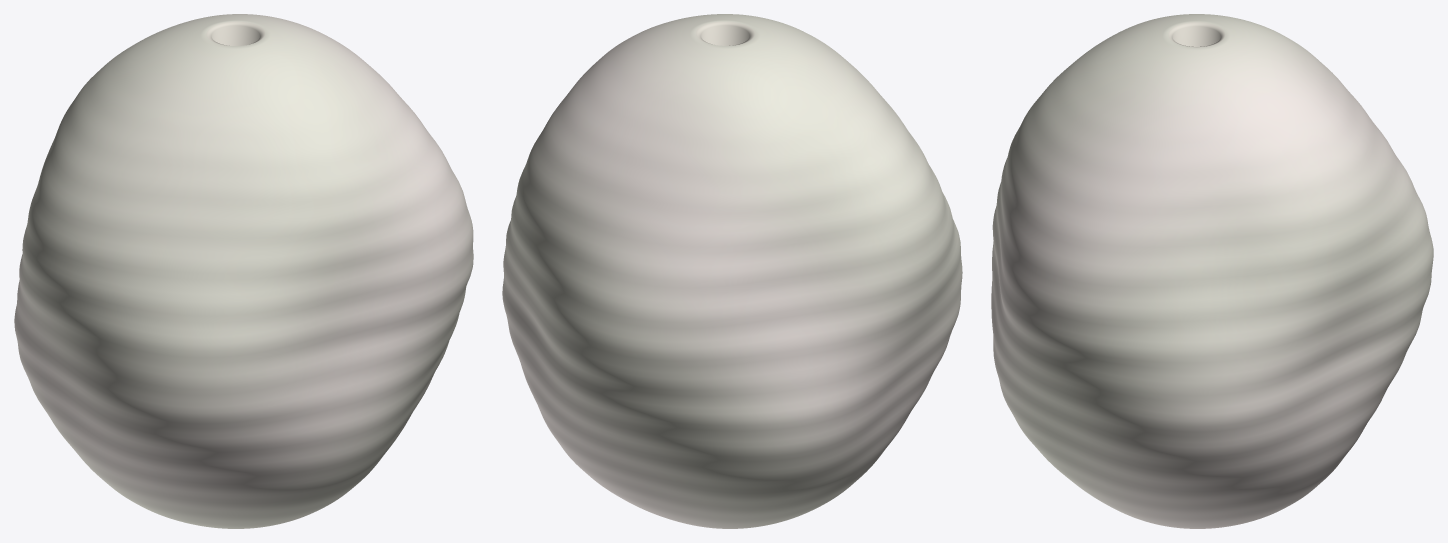
File: pearl-ref-09.glb
3 renders of one model, left to right at view 1: azimuth 30°, elevation 25°; view 2: azimuth 150°, elevation 25°; view 3: azimuth 270°, elevation 25°, orthographic.
Visible parts, largest first — view 1: pearl-ref-09; view 2: pearl-ref-09; view 3: pearl-ref-09.
Part boxes in pixels (<box>): pearl-ref-09: <box>14,14,473,528</box>; pearl-ref-09: <box>502,14,962,528</box>; pearl-ref-09: <box>991,14,1433,528</box>.
Size of the model in its own units: 0.00773 by 0.00863 by 0.0073.
2 materials, 1 textured.
